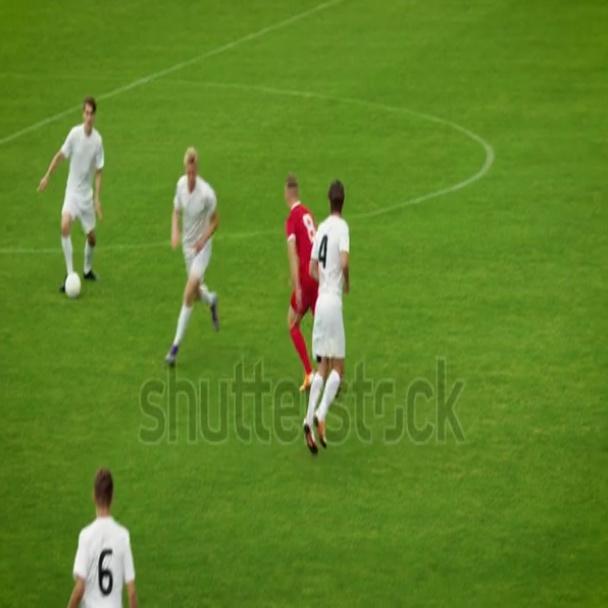ball: (65, 270, 82, 299)
